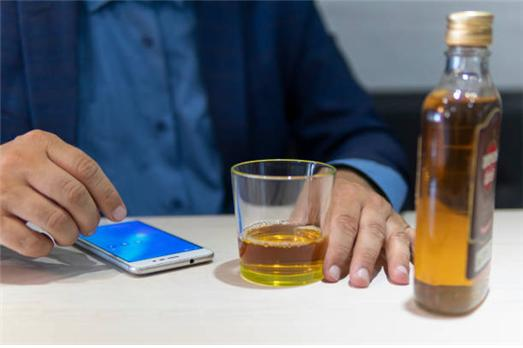alcohol: (413, 11, 501, 317), (231, 158, 334, 288)
